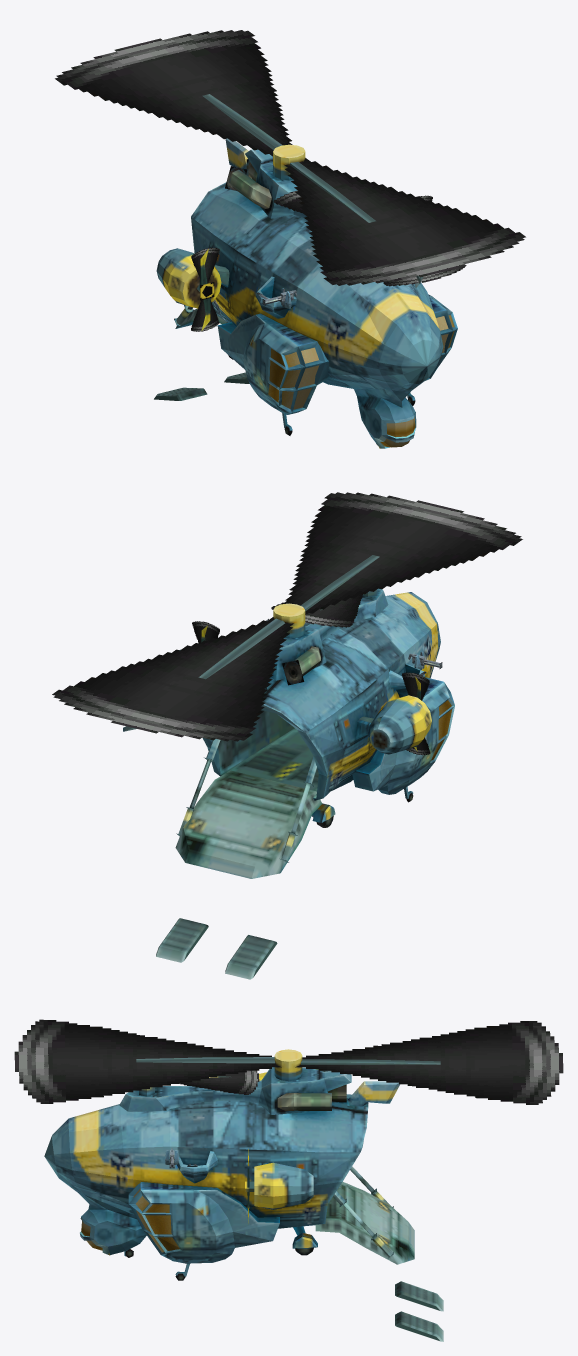
Rendered from VXTPT_Distant.bgf.obj.
The picture shows the model from 3 angles, top to bottom: view 1: azimuth 30°, elevation 25°; view 2: azimuth 150°, elevation 25°; view 3: azimuth 270°, elevation 25°; orthographic projection. The views are drawn at different scales.
Parts seen in each view (by area): view 1: VXTPT_DISTANT, MAIN_ROTOR_FAST, MAIN_ROTOR_SLOW, MAIN_ROTOR_FAST03, MAIN_ROTOR_FAST01, ROTOR, BAY_RAMPS; view 2: VXTPT_DISTANT, MAIN_ROTOR_FAST, BAY_DOORS, BAY_RAMPS, MAIN_ROTOR_SLOW, MAIN_ROTOR_FAST01, SUPPORT_BOTTOM, ROTOR, MAIN_ROTOR_FAST03; view 3: VXTPT_DISTANT, MAIN_ROTOR_FAST, BAY_DOORS, BAY_RAMPS, MAIN_ROTOR_SLOW, MAIN_ROTOR_FAST01, ROTOR, SUPPORT_BOTTOM.
Part boxes in pixels (x1,y1,x2,y2): VXTPT_DISTANT: (156,138,457,448); MAIN_ROTOR_FAST: (55,30,525,285); MAIN_ROTOR_SLOW: (202,94,422,283); MAIN_ROTOR_FAST03: (191,247,219,331); MAIN_ROTOR_FAST01: (273,190,465,286); ROTOR: (273,144,305,180); BAY_RAMPS: (154,372,249,400); VXTPT_DISTANT: (179,588,454,827); MAIN_ROTOR_FAST: (52,492,522,741); BAY_DOORS: (175,770,322,878); BAY_RAMPS: (156,918,277,979); MAIN_ROTOR_SLOW: (123,555,379,731); MAIN_ROTOR_FAST01: (271,593,362,627); SUPPORT_BOTTOM: (176,759,310,862); ROTOR: (273,603,305,638); MAIN_ROTOR_FAST03: (402,672,430,755); VXTPT_DISTANT: (44,1067,399,1280); MAIN_ROTOR_FAST: (14,1019,563,1104); BAY_DOORS: (315,1182,414,1264); BAY_RAMPS: (395,1281,443,1341); MAIN_ROTOR_SLOW: (136,1057,440,1064); MAIN_ROTOR_FAST01: (179,1070,259,1094); ROTOR: (274,1049,302,1081); SUPPORT_BOTTOM: (343,1166,393,1258).
Bounding box in the file's own units: 13.57 × 14.95 × 28.06.
25 materials, 25 textured.
